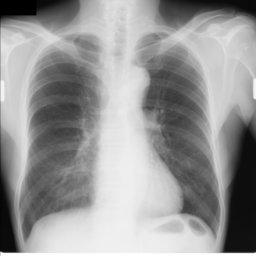left lobe: (138, 34, 220, 234)
right lobe: (20, 35, 101, 240)
